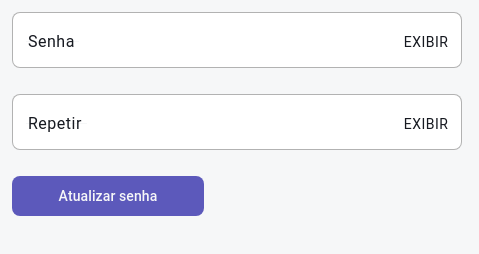
it: <CreateNewPassword/> › should not update passwords with error
In the field labelled "Senha": (237, 40) left=12, top=12, right=462, bottom=68, type "@Teste123"
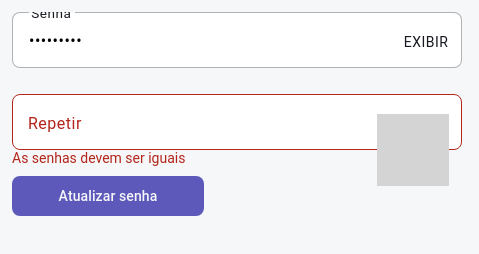
In the field labelled "Repetir": (237, 122) left=12, top=94, right=462, bottom=150, type "@Teste123"
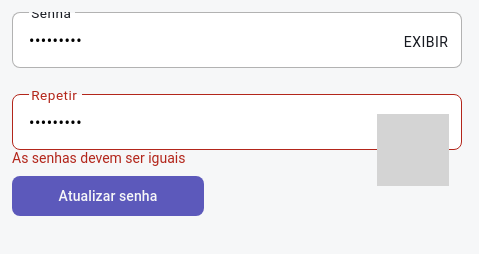
Click the button "Atualizar senha": (108, 196) left=12, top=176, right=204, bottom=216
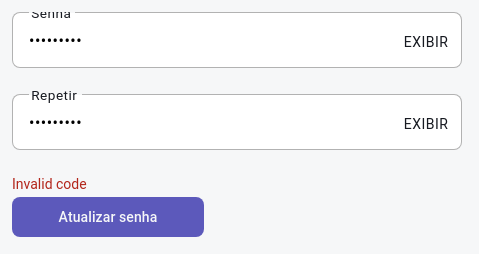
Result: the text "Invalid code" is shown at left=12, top=176, right=87, bottom=192
